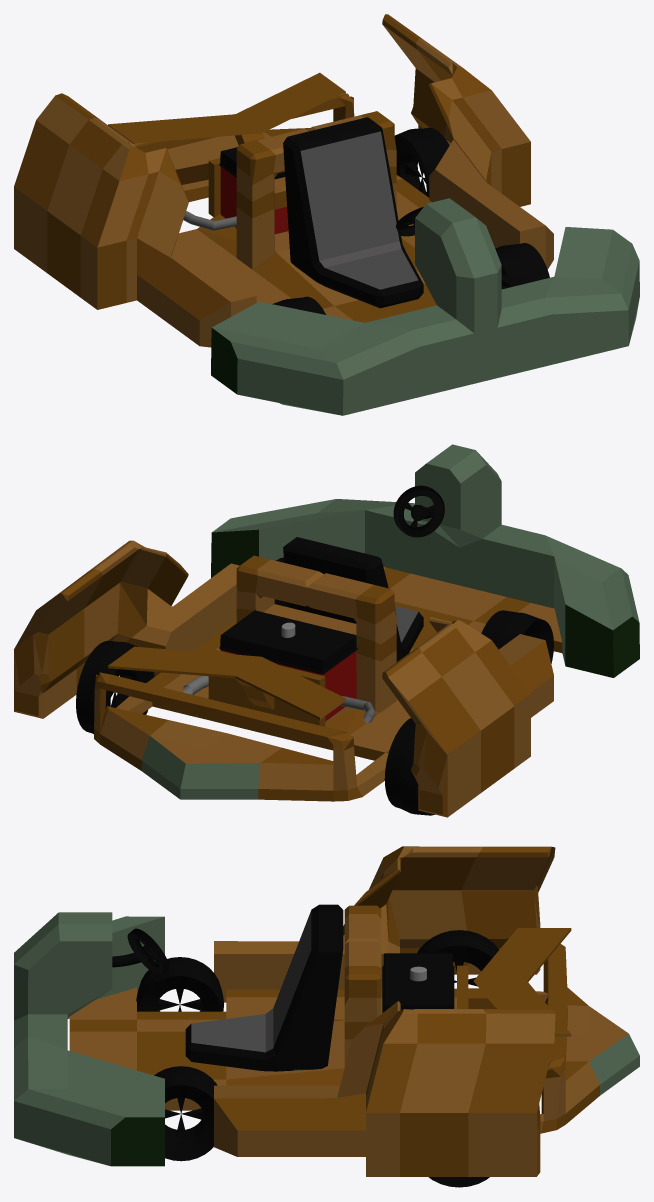
The model's file is KartTartaruga(Colorido).fbx.
3 views of the same model, one above another, from view 1: azimuth 30°, elevation 25°; view 2: azimuth 150°, elevation 25°; view 3: azimuth 270°, elevation 25° (orthographic). The views are drawn at different scales.
Visible parts, largest first — view 1: Cube, Circle.001, Circle.004; view 2: Cube, Circle.001, Circle.002, Circle.003, Circle; view 3: Cube, Circle.004, Circle.003, Circle.002, Circle.
Part boxes in pixels (x1,y1,x2,y2): Cube: (14,14,639,415); Circle.001: (394,127,449,197); Circle.004: (495,243,549,289); Cube: (14,444,639,817); Circle.001: (76,640,154,733); Circle.002: (384,718,434,815); Circle.003: (481,610,553,663); Circle: (393,485,444,537); Cube: (14,846,639,1176); Circle.004: (154,1066,217,1161); Circle.003: (136,957,223,1011); Circle.002: (417,930,499,1008); Circle: (127,928,168,975).
Bounding box in the file's own units: 1908 × 767 × 2327.
